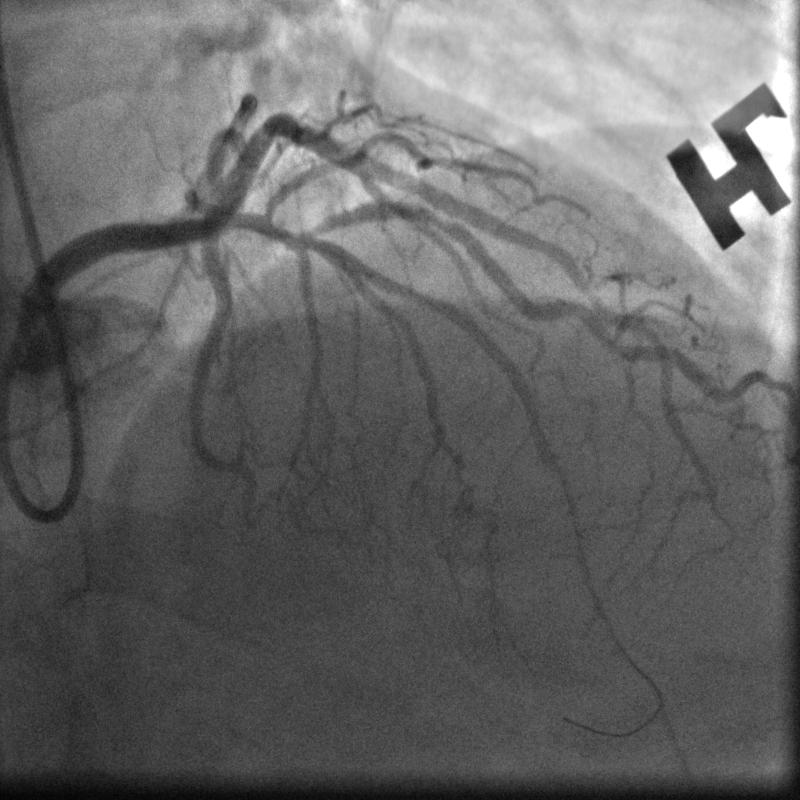Stenosis: (415, 199, 452, 236)
